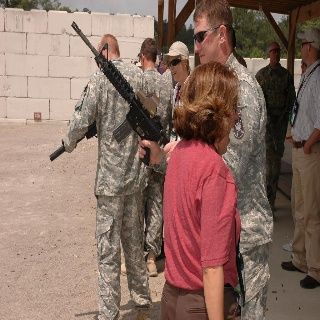rifle: (71, 19, 171, 166)
